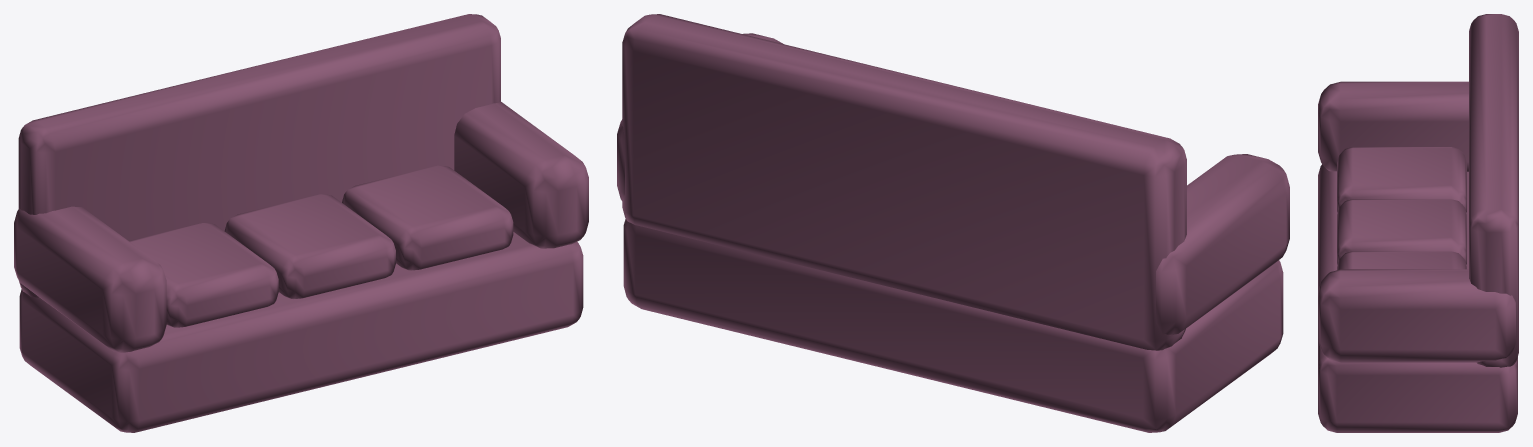
Rendered from home-sofa.glb.
3 views of the same model, side by side, from view 1: azimuth 30°, elevation 25°; view 2: azimuth 150°, elevation 25°; view 3: azimuth 270°, elevation 25° (orthographic). The views are drawn at different scales.
Parts seen in each view (by area): view 1: interior_3_cloth; view 2: interior_3_cloth; view 3: interior_3_cloth.
Part boxes in pixels (x1,y1,x2,y2): interior_3_cloth: (14,14,588,432); interior_3_cloth: (617,14,1289,432); interior_3_cloth: (1318,14,1518,432).
Bounding box in the file's own units: 2.16 × 1.04 × 0.8543.
